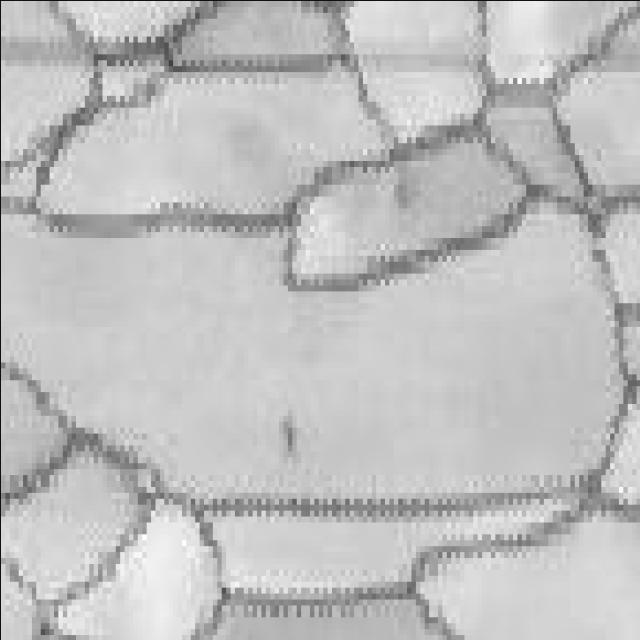good_void: (281, 414, 298, 460)
